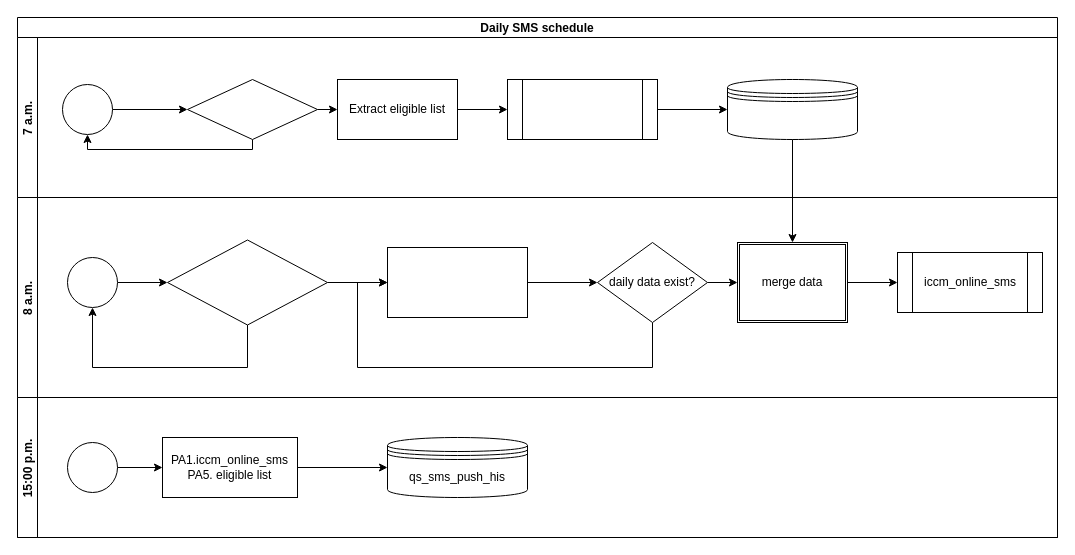
This 1075x555 diagram has some shape labels left out. Each missing label, with the centre of its shape:
"IDP table ready?" belongs at point (252, 109).
"PA5. eligible list" belongs at point (792, 109).
"read PA1.wechat_push_info" belongs at point (457, 282).
"wechat_push_info" belongs at point (582, 109).
"wechat_push_info.rdy in backup?" belongs at point (247, 282).
